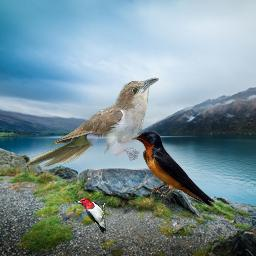Cuckoo: (25, 77, 159, 167)
Swallow: (131, 131, 215, 209)
Woodpecker: (74, 198, 107, 233)
